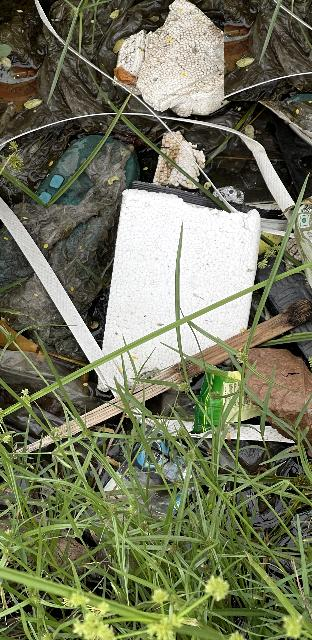cocksheet: (104, 183, 269, 395)
